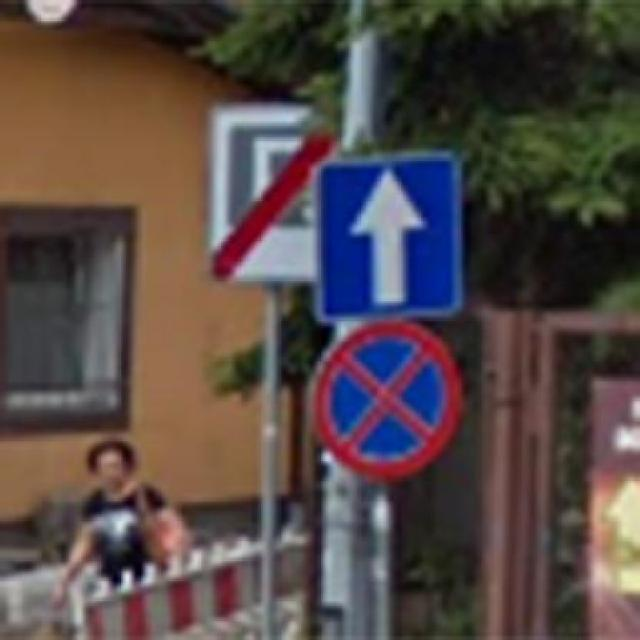Zakaz zatrzymywania sie: (305, 320, 464, 483)
